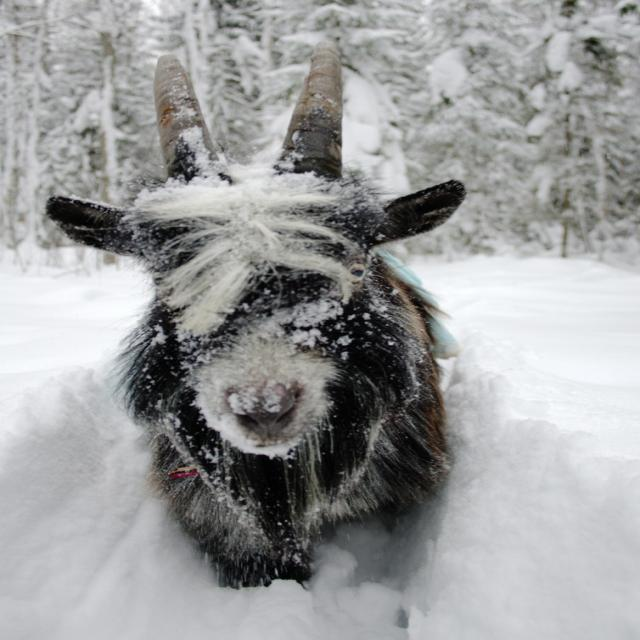Goat: (43, 41, 468, 590)
